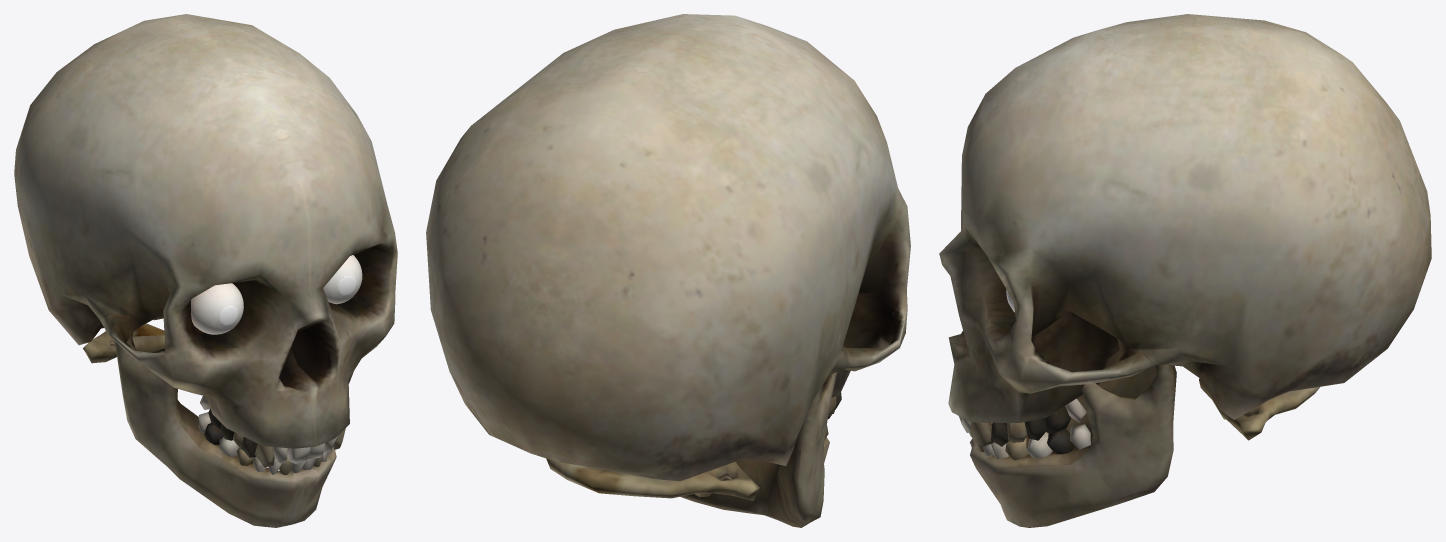
File: wtf___.fbx
3 renders of one model, left to right at view 1: azimuth 30°, elevation 25°; view 2: azimuth 150°, elevation 25°; view 3: azimuth 270°, elevation 25°, orthographic. The views are drawn at different scales.
Parts seen in each view (by area): view 1: Body; view 2: Body; view 3: Body.
Part boxes in pixels (bbox=[...]): Body: bbox=[14, 14, 397, 527]; Body: bbox=[426, 14, 910, 527]; Body: bbox=[939, 14, 1431, 527].
Bounding box in the file's own units: 204 × 291 × 268.
